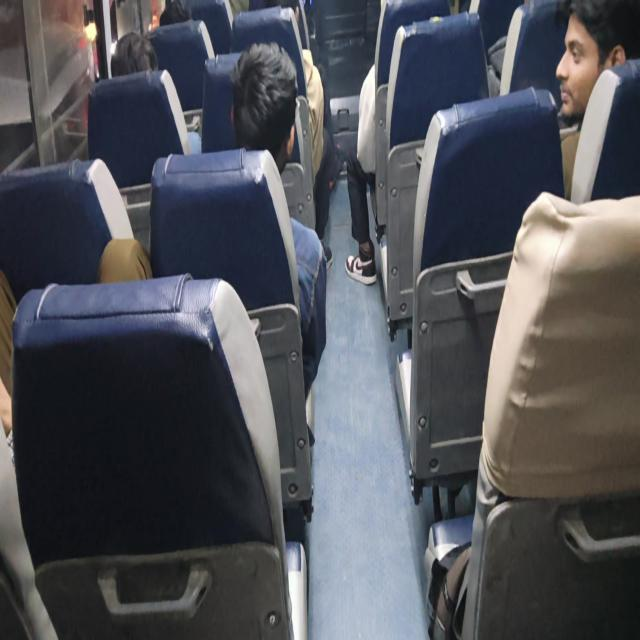person: (559, 5, 640, 105), (241, 43, 303, 145), (105, 24, 158, 76)
